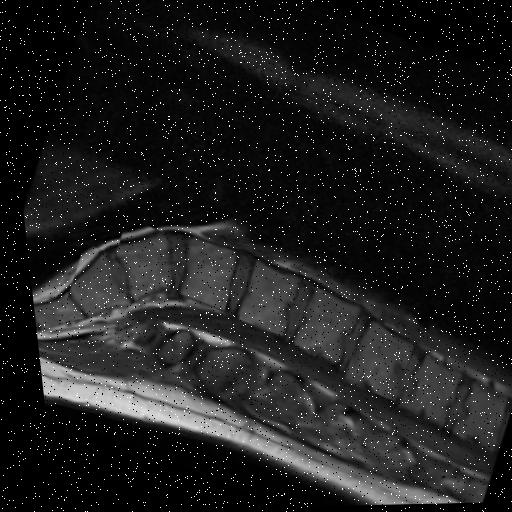L1: (334, 322, 403, 402)
L2: (285, 290, 350, 363)
L3: (230, 262, 291, 336)
L4: (170, 237, 227, 310)
L5: (108, 232, 163, 299)
S1: (60, 251, 121, 317)
